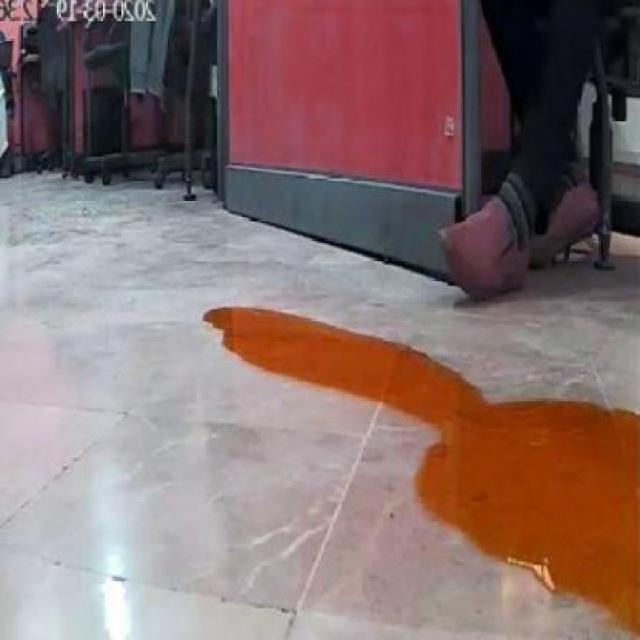spillage: (205, 307, 640, 640)
